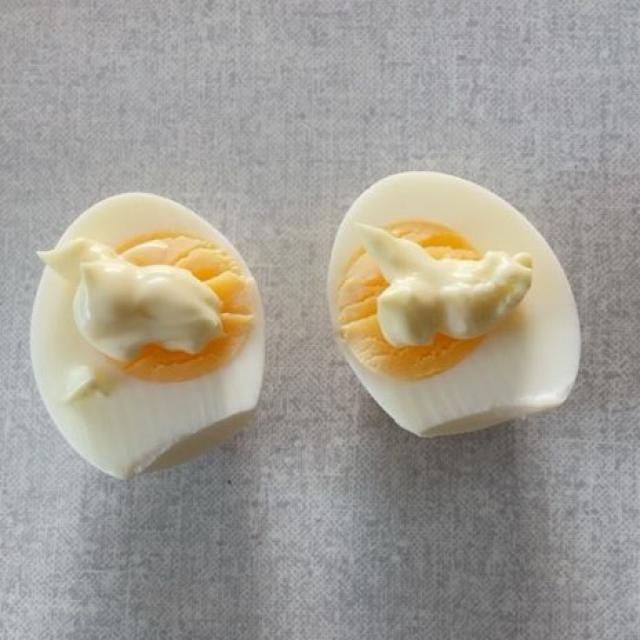egg: (25, 160, 583, 488)
